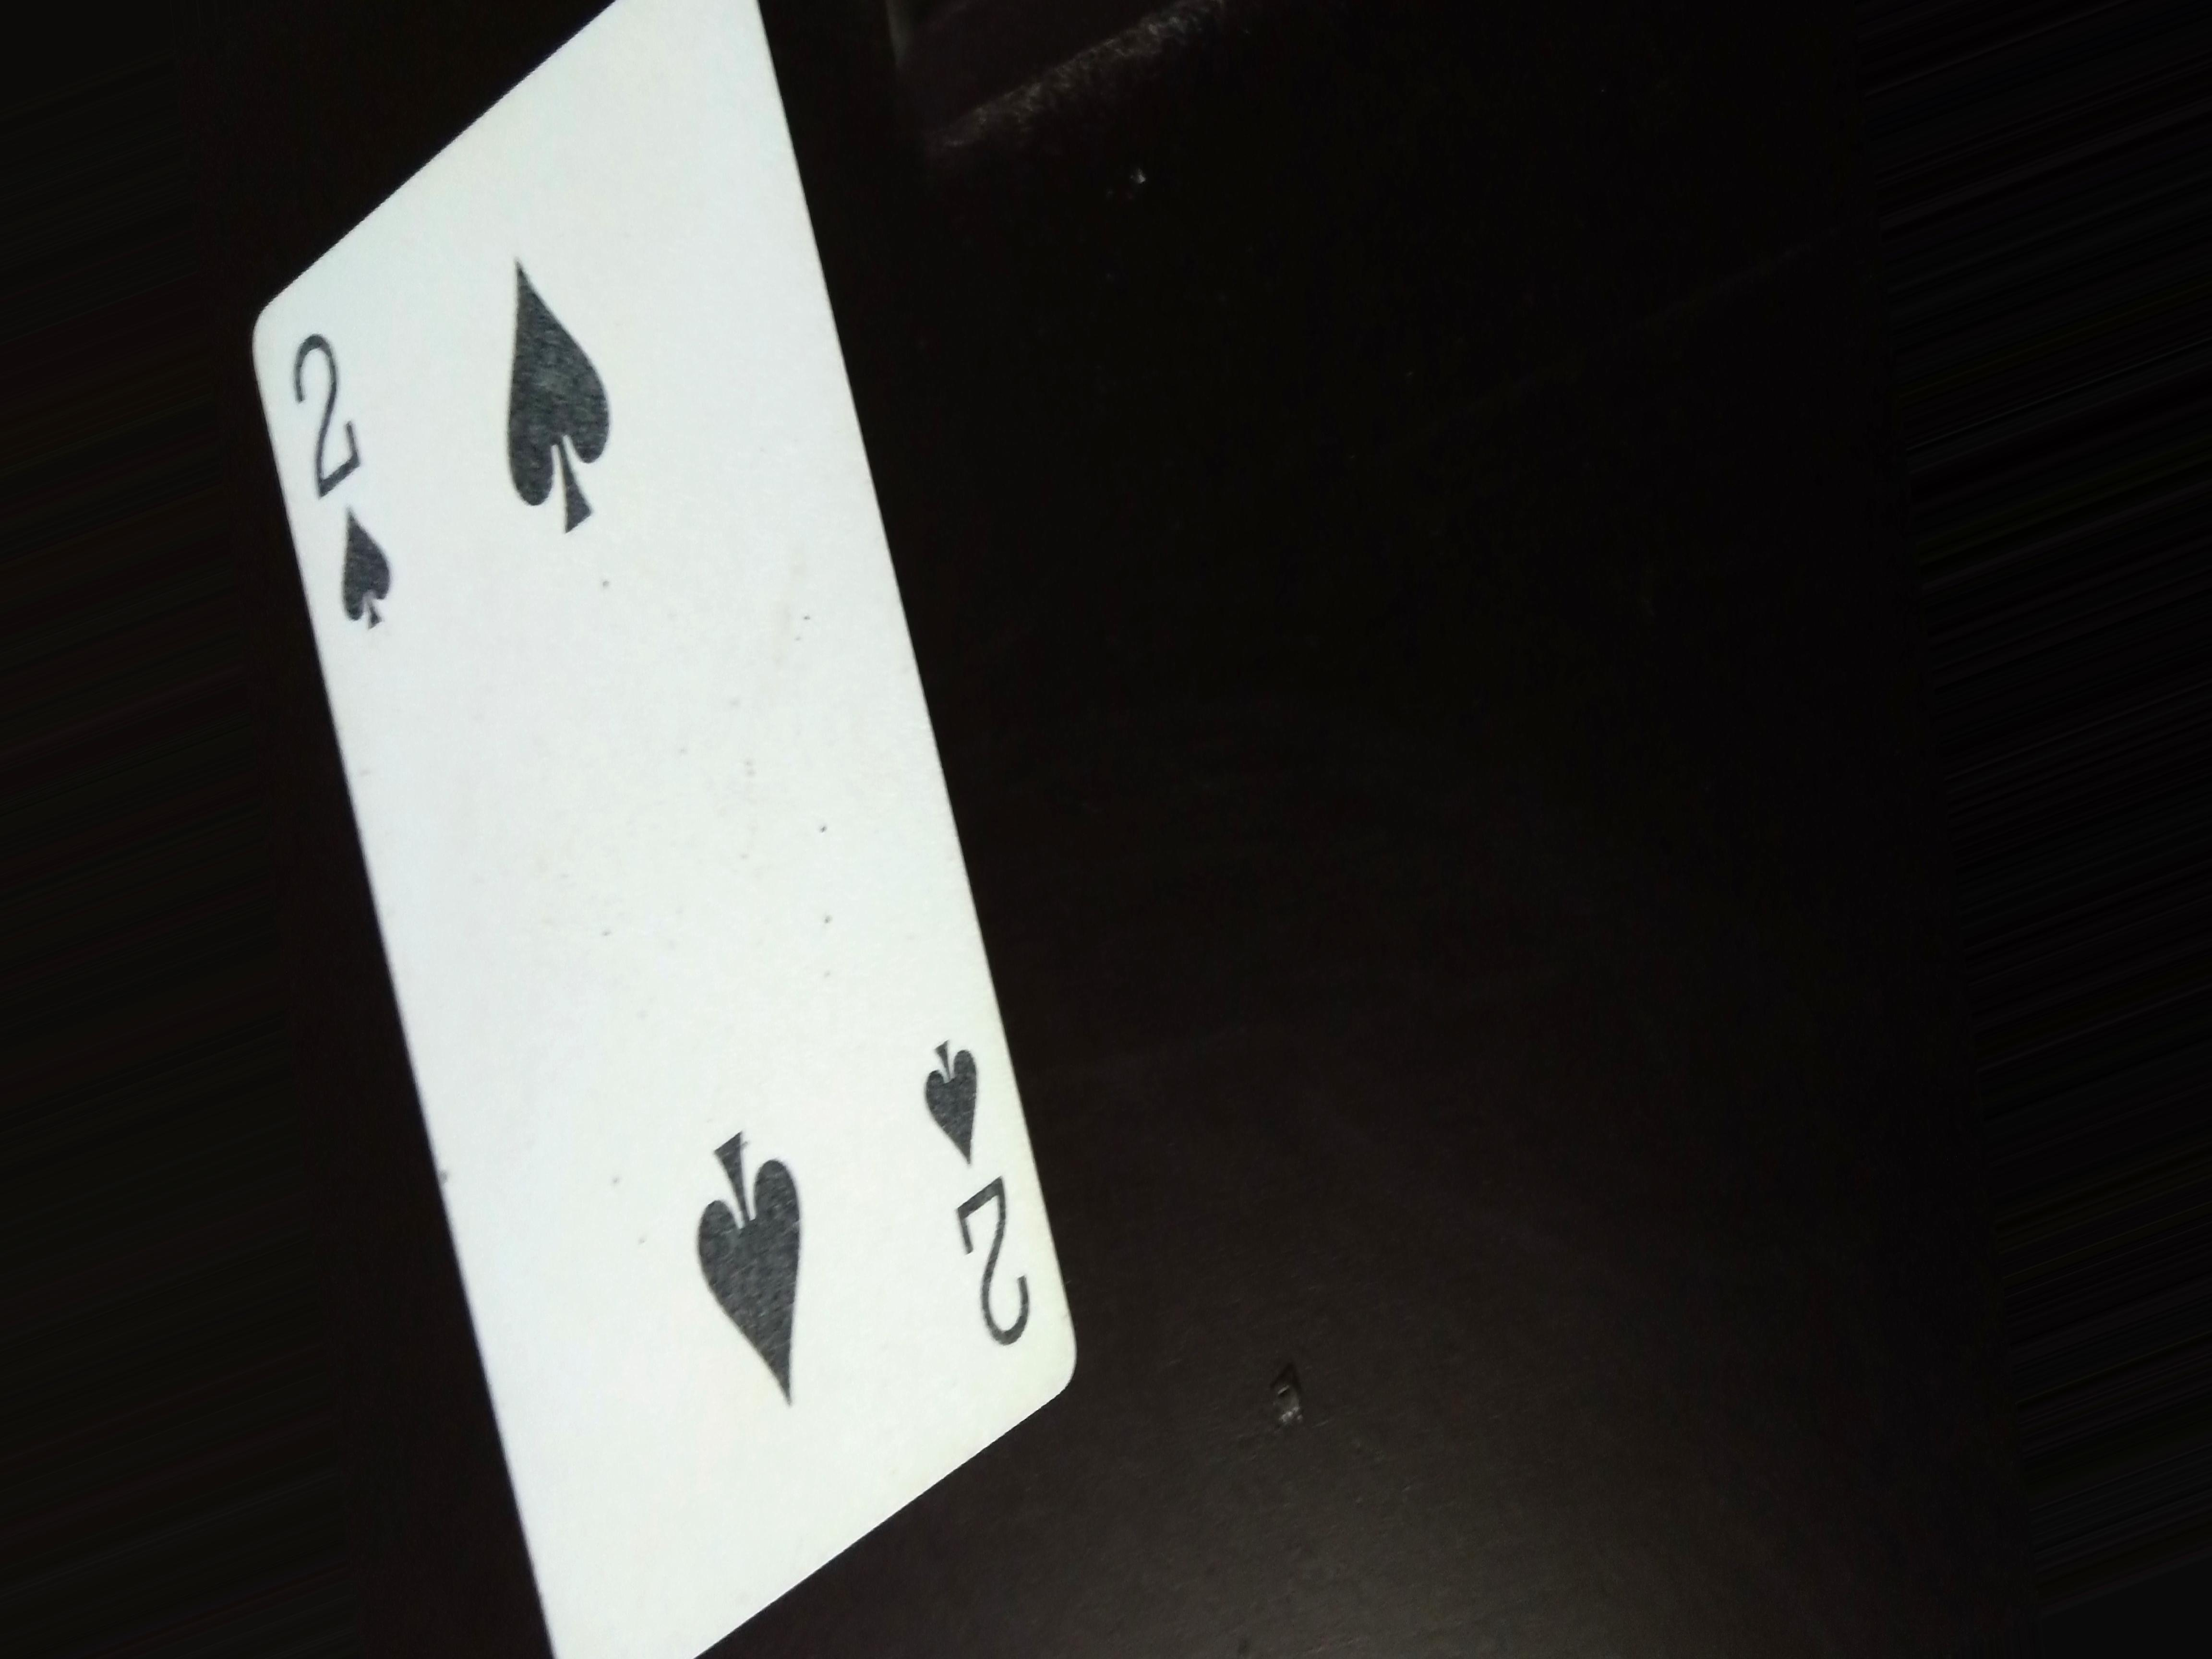2S: (270, 314, 420, 669)
